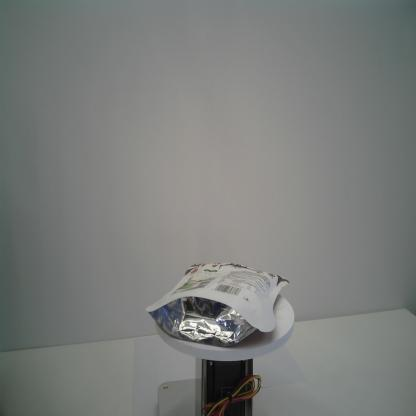Dried Fruit: (146, 261, 289, 347)
